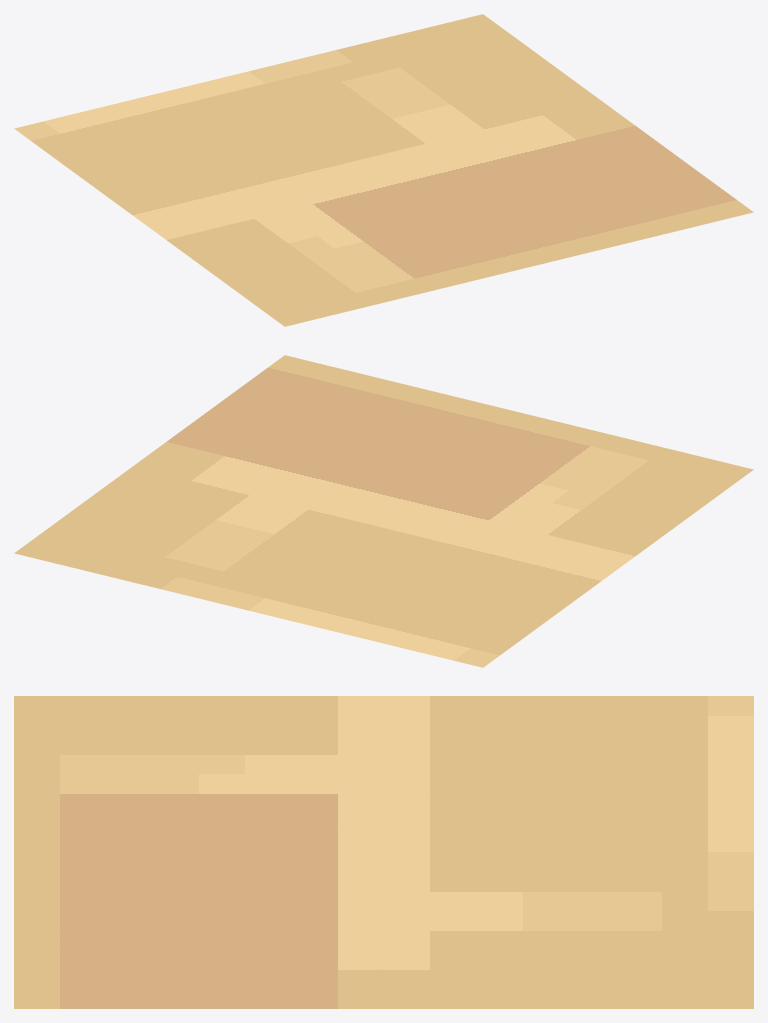
3 renders of one model, top to bottom at view 1: azimuth 30°, elevation 25°; view 2: azimuth 150°, elevation 25°; view 3: azimuth 270°, elevation 25°, orthographic. The views are drawn at different scales.
Size of the model in its own units: 1 by 0 by 1.
Materials: 1 (1 with a texture image).
